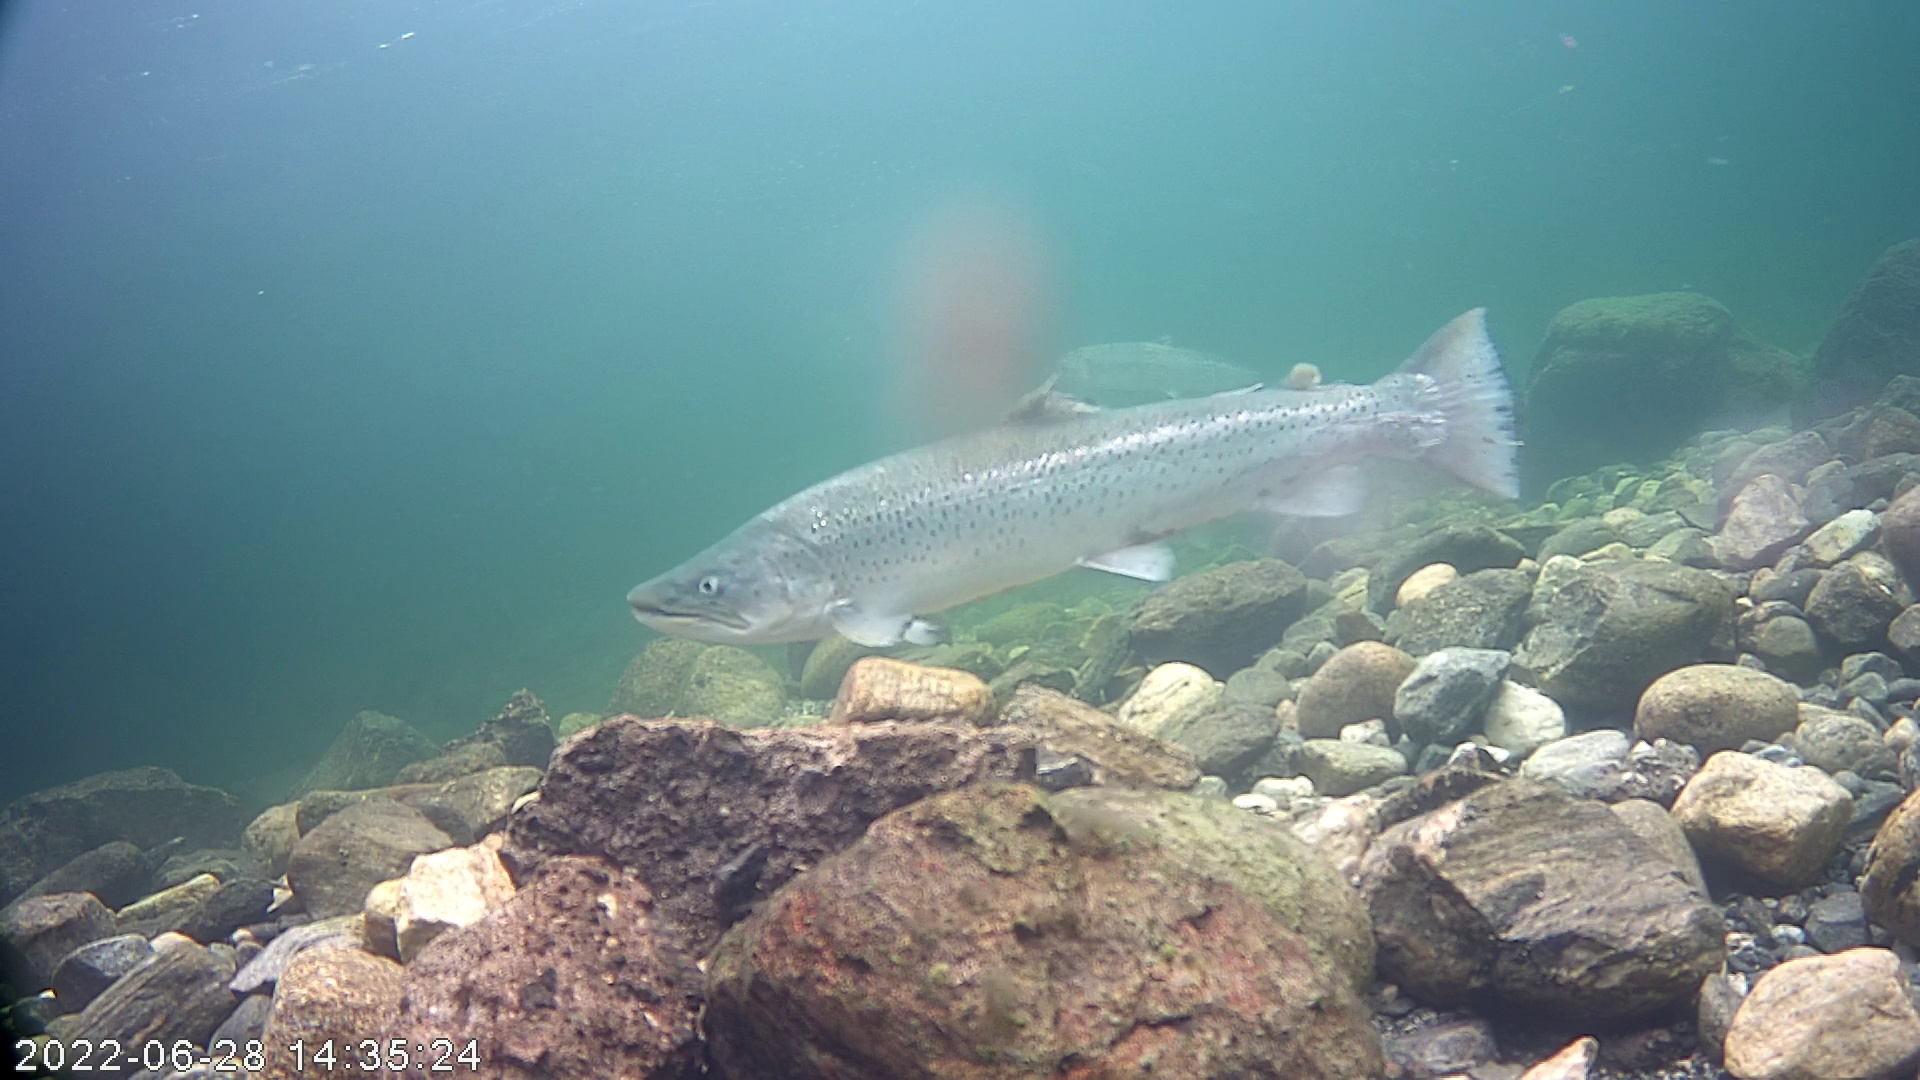salmon: (608, 247, 1564, 682)
